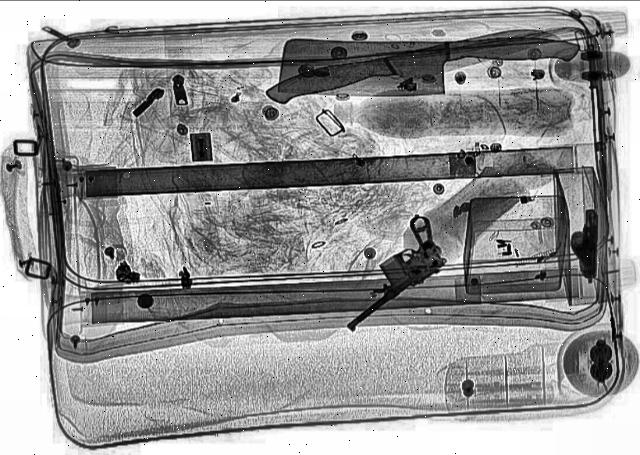Gun: (296, 214, 478, 330), (570, 210, 606, 280)
Knife: (260, 22, 566, 108), (274, 32, 586, 100)
